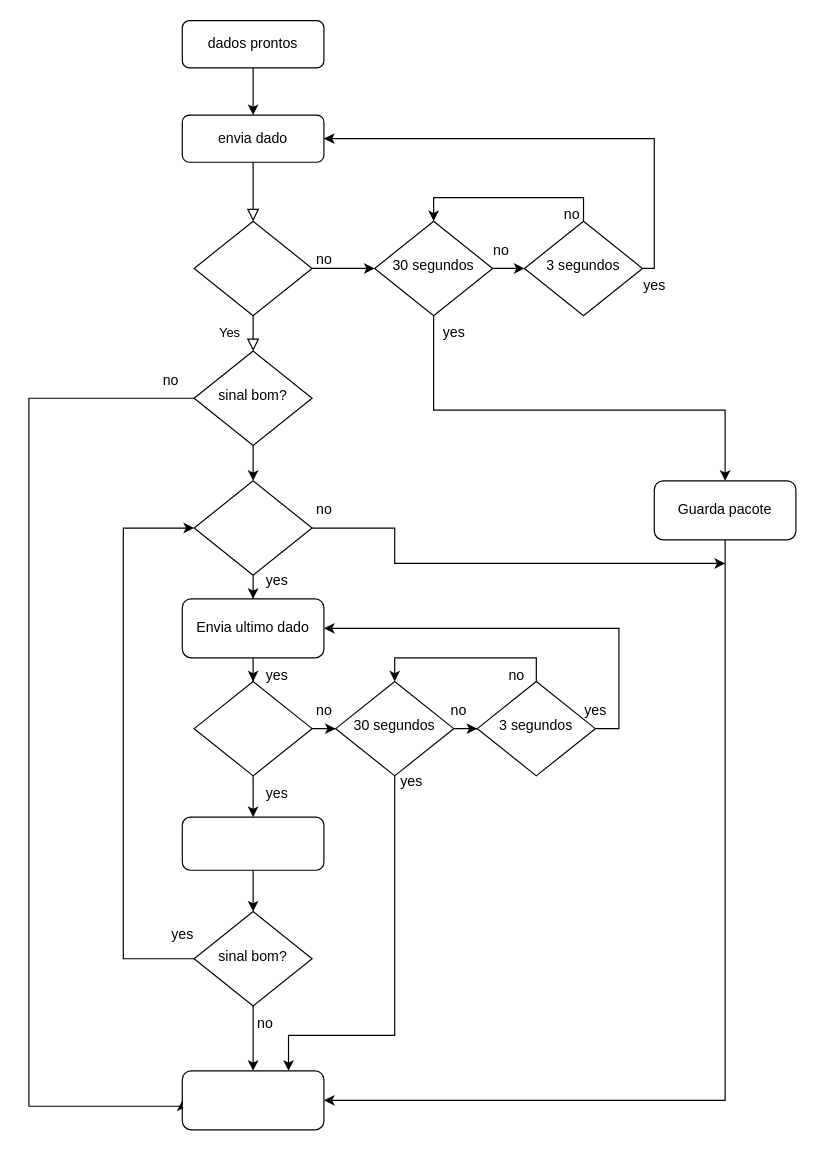
This 817x1151 diagram has some shape labels left out. The box of each missing label's shape, as (x1, y1, x2, y2) in pixels:
Apaga esse dado: (181, 816, 324, 870)
confirmacao: (193, 220, 312, 316)
Confirmação: (193, 680, 312, 776)
ex dado mem?: (193, 480, 312, 575)
fim do protocolo: (181, 1070, 324, 1130)
